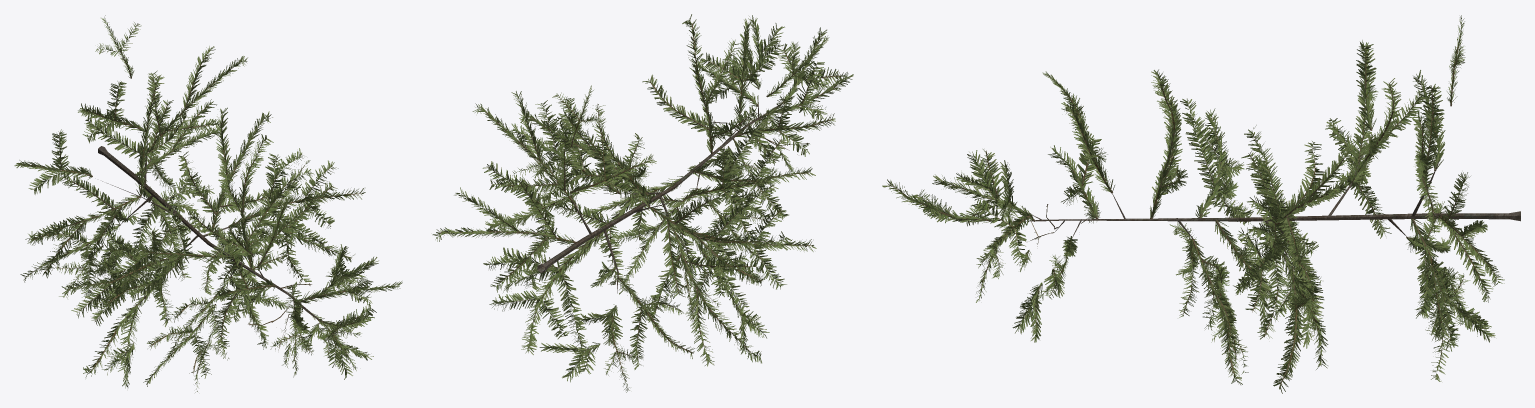
3 views of the same model, side by side, from view 1: azimuth 30°, elevation 25°; view 2: azimuth 150°, elevation 25°; view 3: azimuth 270°, elevation 25° (orthographic). The views are drawn at different scales.
Parts seen in each view (by area): view 1: nodes[0]; view 2: nodes[0]; view 3: nodes[0].
Part boxes in pixels (<box>): nodes[0]: <box>14,15,402,392</box>; nodes[0]: <box>432,14,853,392</box>; nodes[0]: <box>882,15,1520,393</box>.
Size of the model in its own units: 0.8604 by 0.8217 by 1.3.
Materials: 2 (2 with a texture image).
